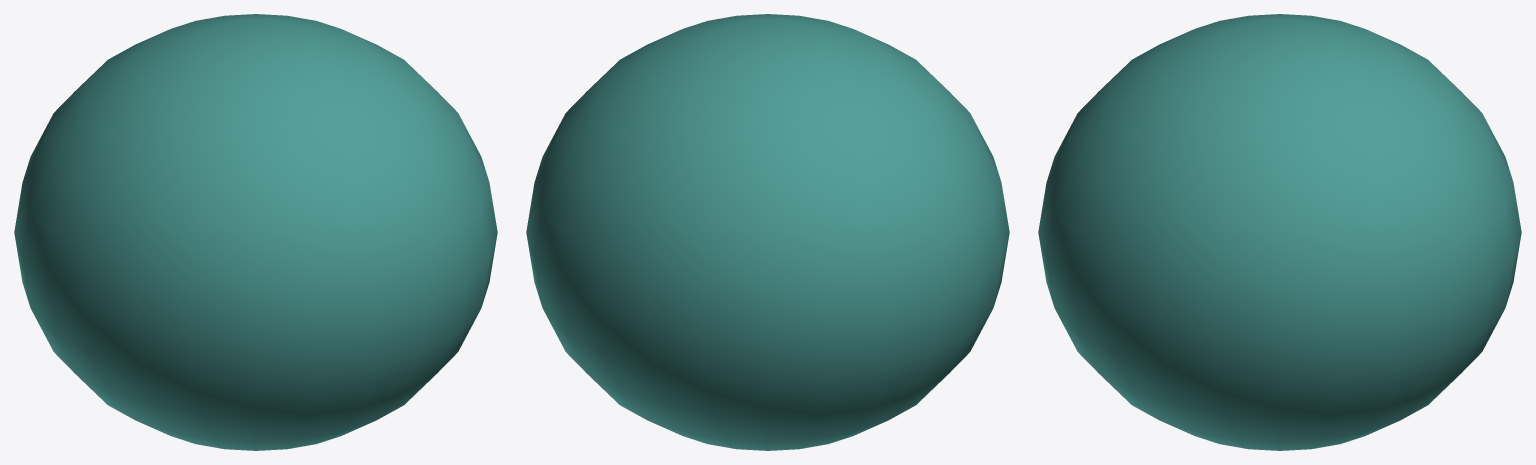
File: token_ball.glb
3 renders of one model, left to right at view 1: azimuth 30°, elevation 25°; view 2: azimuth 150°, elevation 25°; view 3: azimuth 270°, elevation 25°, orthographic.
Visible parts, largest first — view 1: Token_Body; view 2: Token_Body; view 3: Token_Body.
Part boxes in pixels (left/top/right/bottom): Token_Body: left=14, top=14, right=497, bottom=450; Token_Body: left=526, top=14, right=1009, bottom=450; Token_Body: left=1038, top=14, right=1521, bottom=450.
Size of the model in its own units: 0.34 by 0.3 by 0.34.
